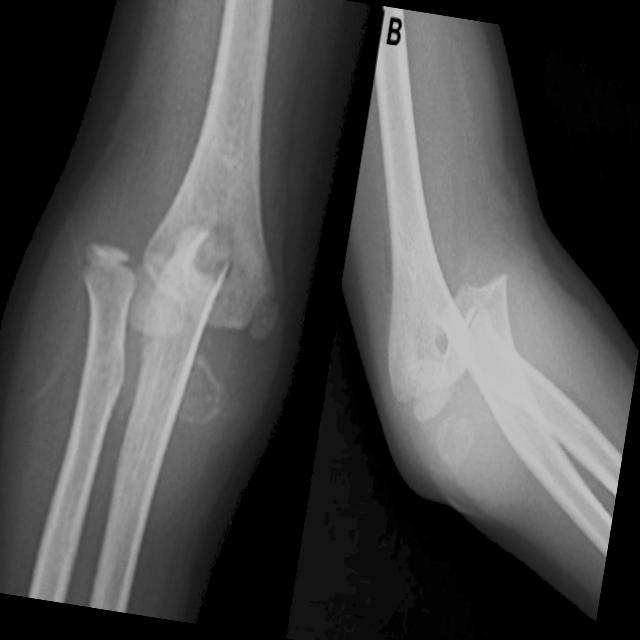Fracture Dislocation: (411, 278, 514, 408)
